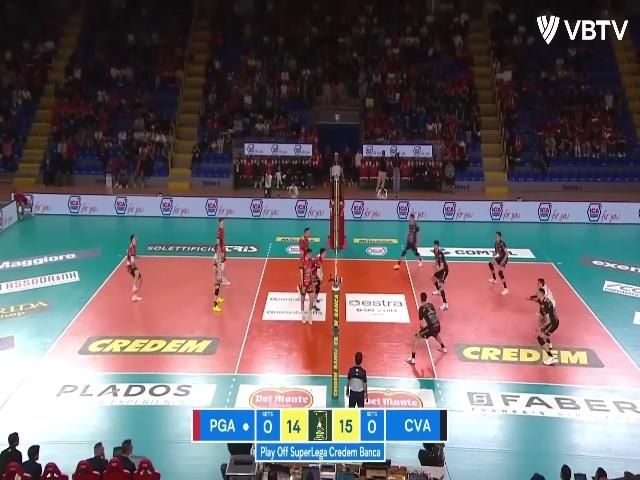volleyball court: (43, 253, 638, 386)
